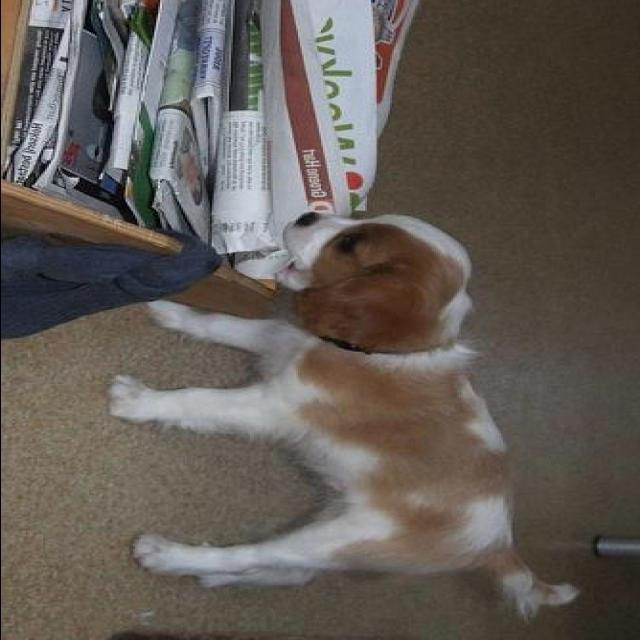blenheim_spaniel: (103, 208, 584, 626)
